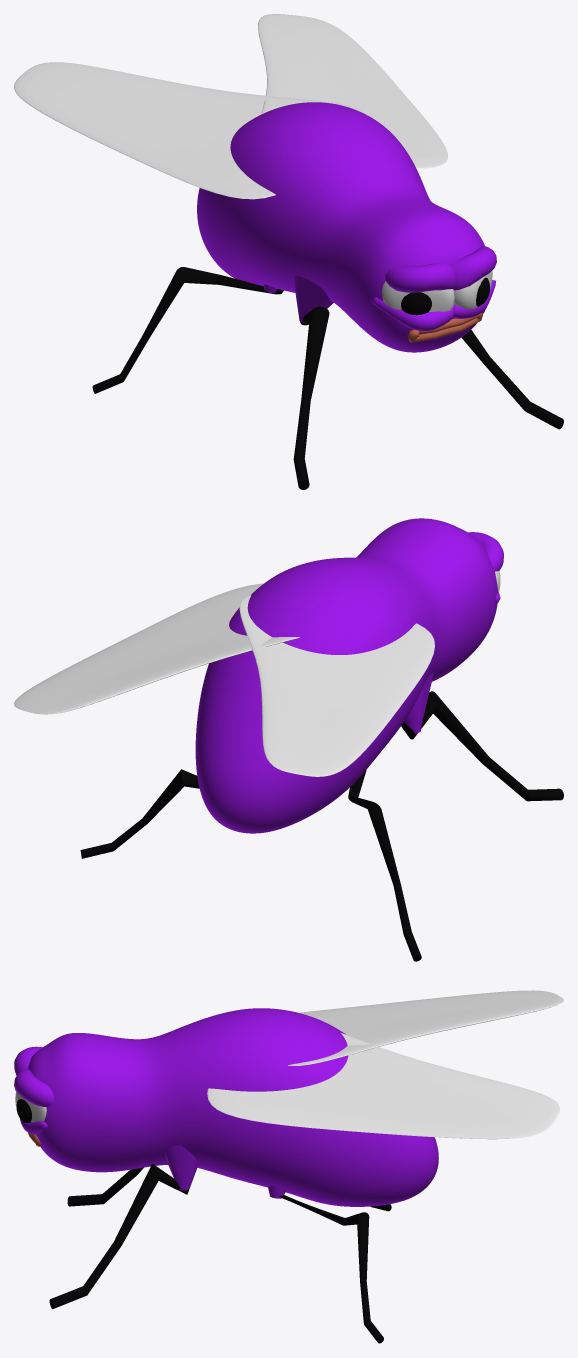
Rendered from mouch2.fbx.
3 views of the same model, one above another, from view 1: azimuth 30°, elevation 25°; view 2: azimuth 150°, elevation 25°; view 3: azimuth 270°, elevation 25° (orthographic). The views are drawn at different scales.
Visible parts, largest first — view 1: Cube, Plane.001, Cylinder, Torus.001, Torus.002, Torus.004, Cylinder.006, Sphere.004, Cylinder.002, Sphere.003, Sphere.002; view 2: Cube, Plane.001, Cylinder, Cylinder.006, Torus.001; view 3: Cube, Plane.001, Cylinder, Cylinder.007, Torus.002.
Part boxes in pixels (x1=…): Cube: x1=197, y1=102, x2=485, y2=352; Plane.001: x1=14, y1=14, x2=447, y2=199; Cylinder: x1=92, y1=267, x2=563, y2=489; Torus.001: x1=385, y1=262, x2=455, y2=292; Torus.002: x1=452, y1=246, x2=496, y2=290; Torus.004: x1=370, y1=297, x2=454, y2=331; Cylinder.006: x1=293, y1=275, x2=333, y2=322; Sphere.004: x1=381, y1=281, x2=454, y2=311; Cylinder.002: x1=407, y1=313, x2=482, y2=342; Sphere.003: x1=453, y1=271, x2=492, y2=309; Sphere.002: x1=401, y1=292, x2=431, y2=315; Cube: x1=195, y1=518, x2=498, y2=833; Plane.001: x1=14, y1=583, x2=434, y2=776; Cylinder: x1=80, y1=691, x2=563, y2=961; Cylinder.006: x1=404, y1=672, x2=433, y2=733; Torus.001: x1=468, y1=532, x2=503, y2=571; Cube: x1=28, y1=1008, x2=438, y2=1206; Plane.001: x1=207, y1=990, x2=563, y2=1139; Cylinder: x1=49, y1=1164, x2=391, y2=1343; Cylinder.007: x1=165, y1=1145, x2=198, y2=1190; Torus.002: x1=14, y1=1069, x2=53, y2=1106.
Size of the model in its own units: 289 by 237 by 447.
